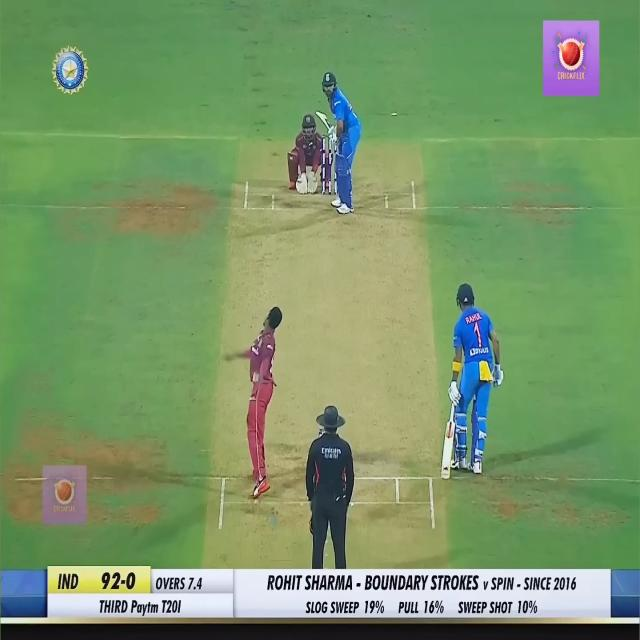fully_visible: (130, 594, 161, 618)
